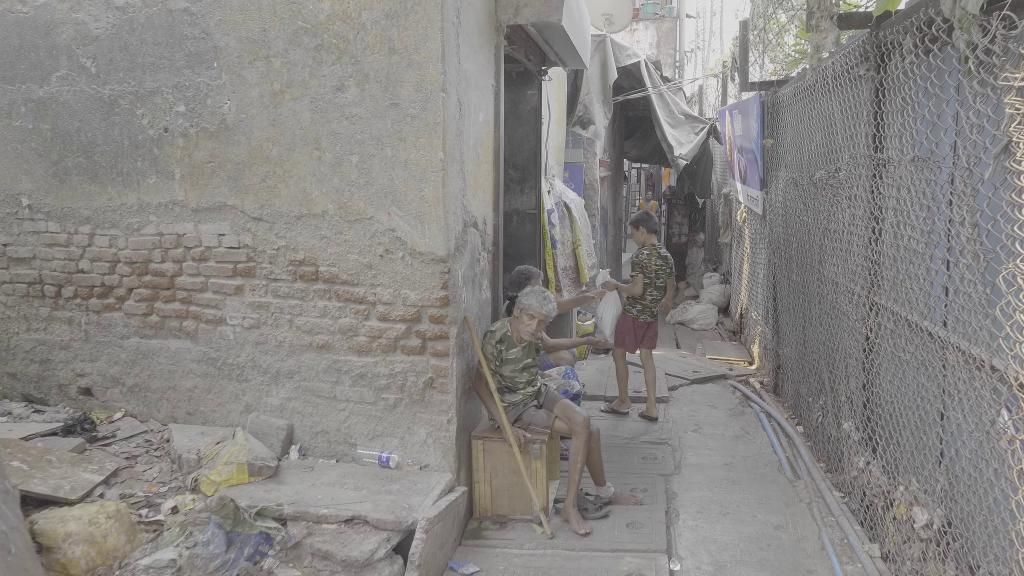garbage: (351, 450, 417, 471)
